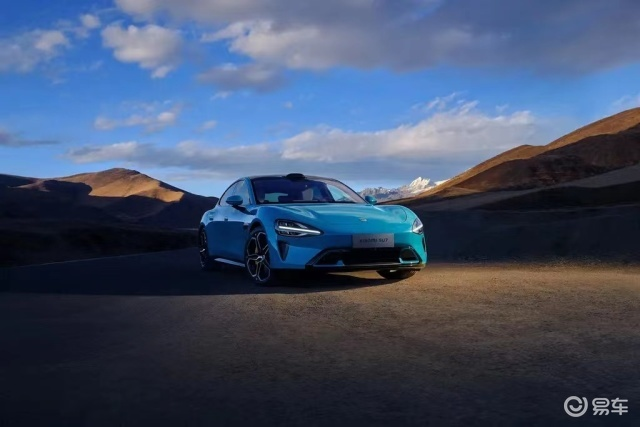su7: (199, 159, 432, 280)
